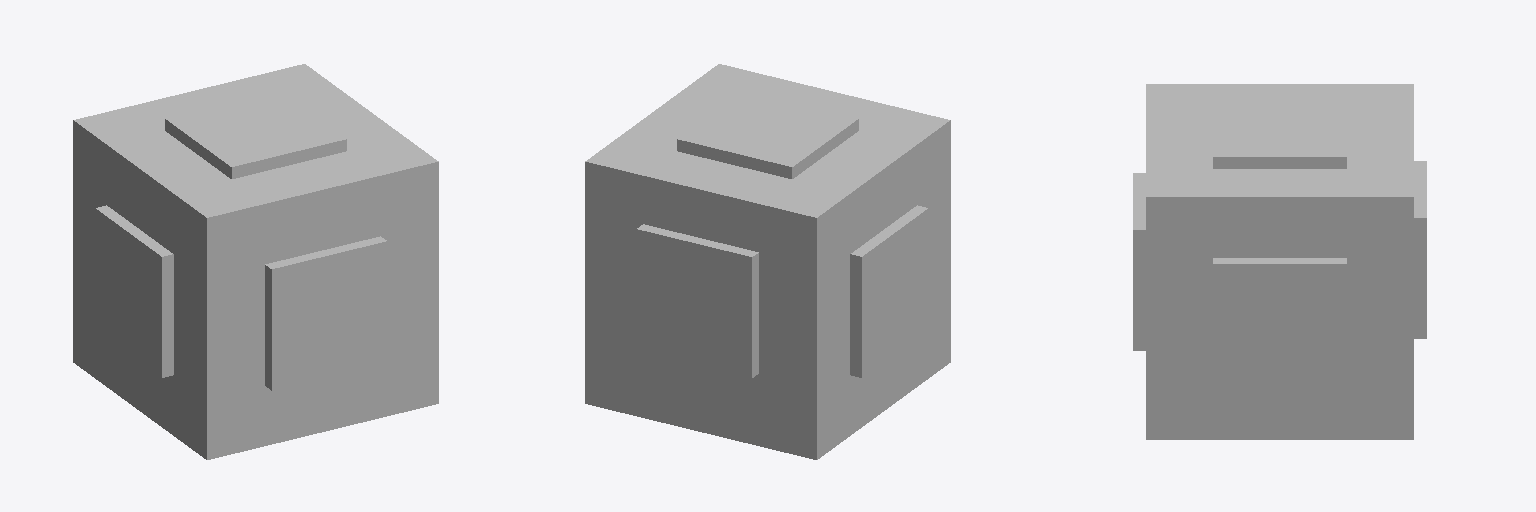
Rendered from Stone-2.obj.
3 views of the same model, side by side, from view 1: azimuth 30°, elevation 25°; view 2: azimuth 150°, elevation 25°; view 3: azimuth 270°, elevation 25° (orthographic).
Visible parts, largest first — view 1: object 1; view 2: object 1; view 3: object 1.
Boxes of the visible parts, x1=… form: object 1: x1=73, y1=64, x2=438, y2=459; object 1: x1=585, y1=64, x2=950, y2=459; object 1: x1=1133, y1=84, x2=1426, y2=439.
Size of the model in its own units: 2.2 by 2.1 by 2.2.